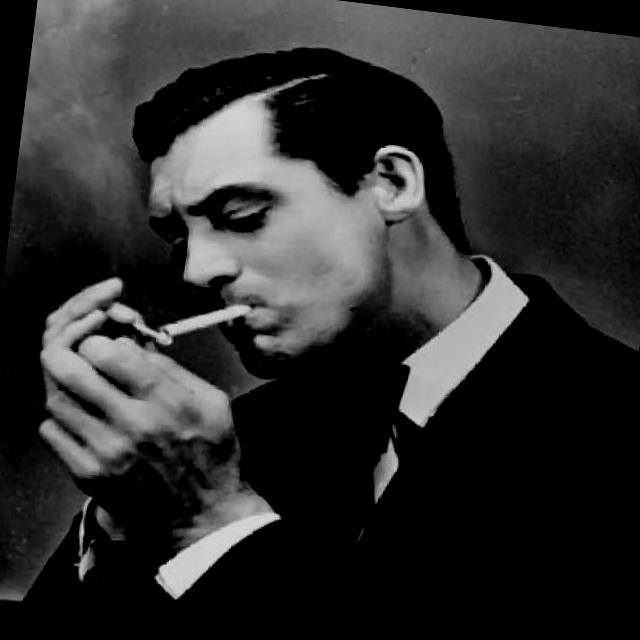smoke: (156, 293, 259, 354)
